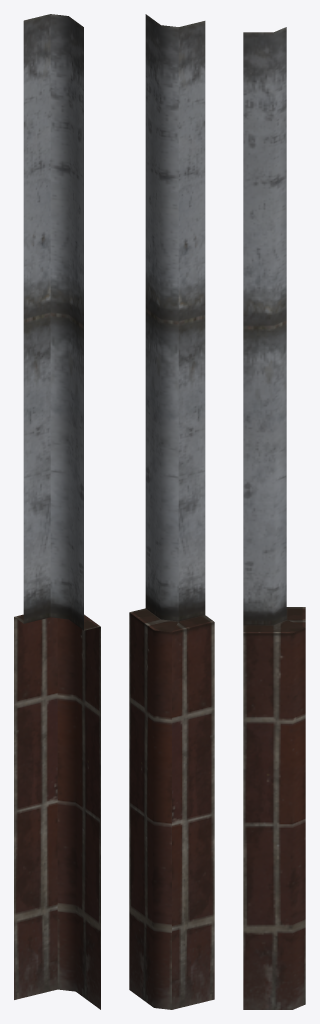
The model's file is Psychiatric_Ward_Guards_Room_Interior_Wall_Corner.glb.
The picture shows the model from 3 angles, left to right: view 1: azimuth 30°, elevation 25°; view 2: azimuth 210°, elevation 25°; view 3: azimuth 270°, elevation 25°; orthographic projection.
Visible parts, largest first — view 1: Psychiatric_Ward_Guards_Room_Interior_Wall_Corner; view 2: Psychiatric_Ward_Guards_Room_Interior_Wall_Corner; view 3: Psychiatric_Ward_Guards_Room_Interior_Wall_Corner.
Part boxes in pixels (x1=…): Psychiatric_Ward_Guards_Room_Interior_Wall_Corner: x1=14, y1=14, x2=100, y2=1009; Psychiatric_Ward_Guards_Room_Interior_Wall_Corner: x1=129, y1=14, x2=214, y2=1009; Psychiatric_Ward_Guards_Room_Interior_Wall_Corner: x1=243, y1=27, x2=305, y2=1009.
Size of the model in its own units: 0.1437 by 2.47 by 0.1437.
1 material, 1 textured.
